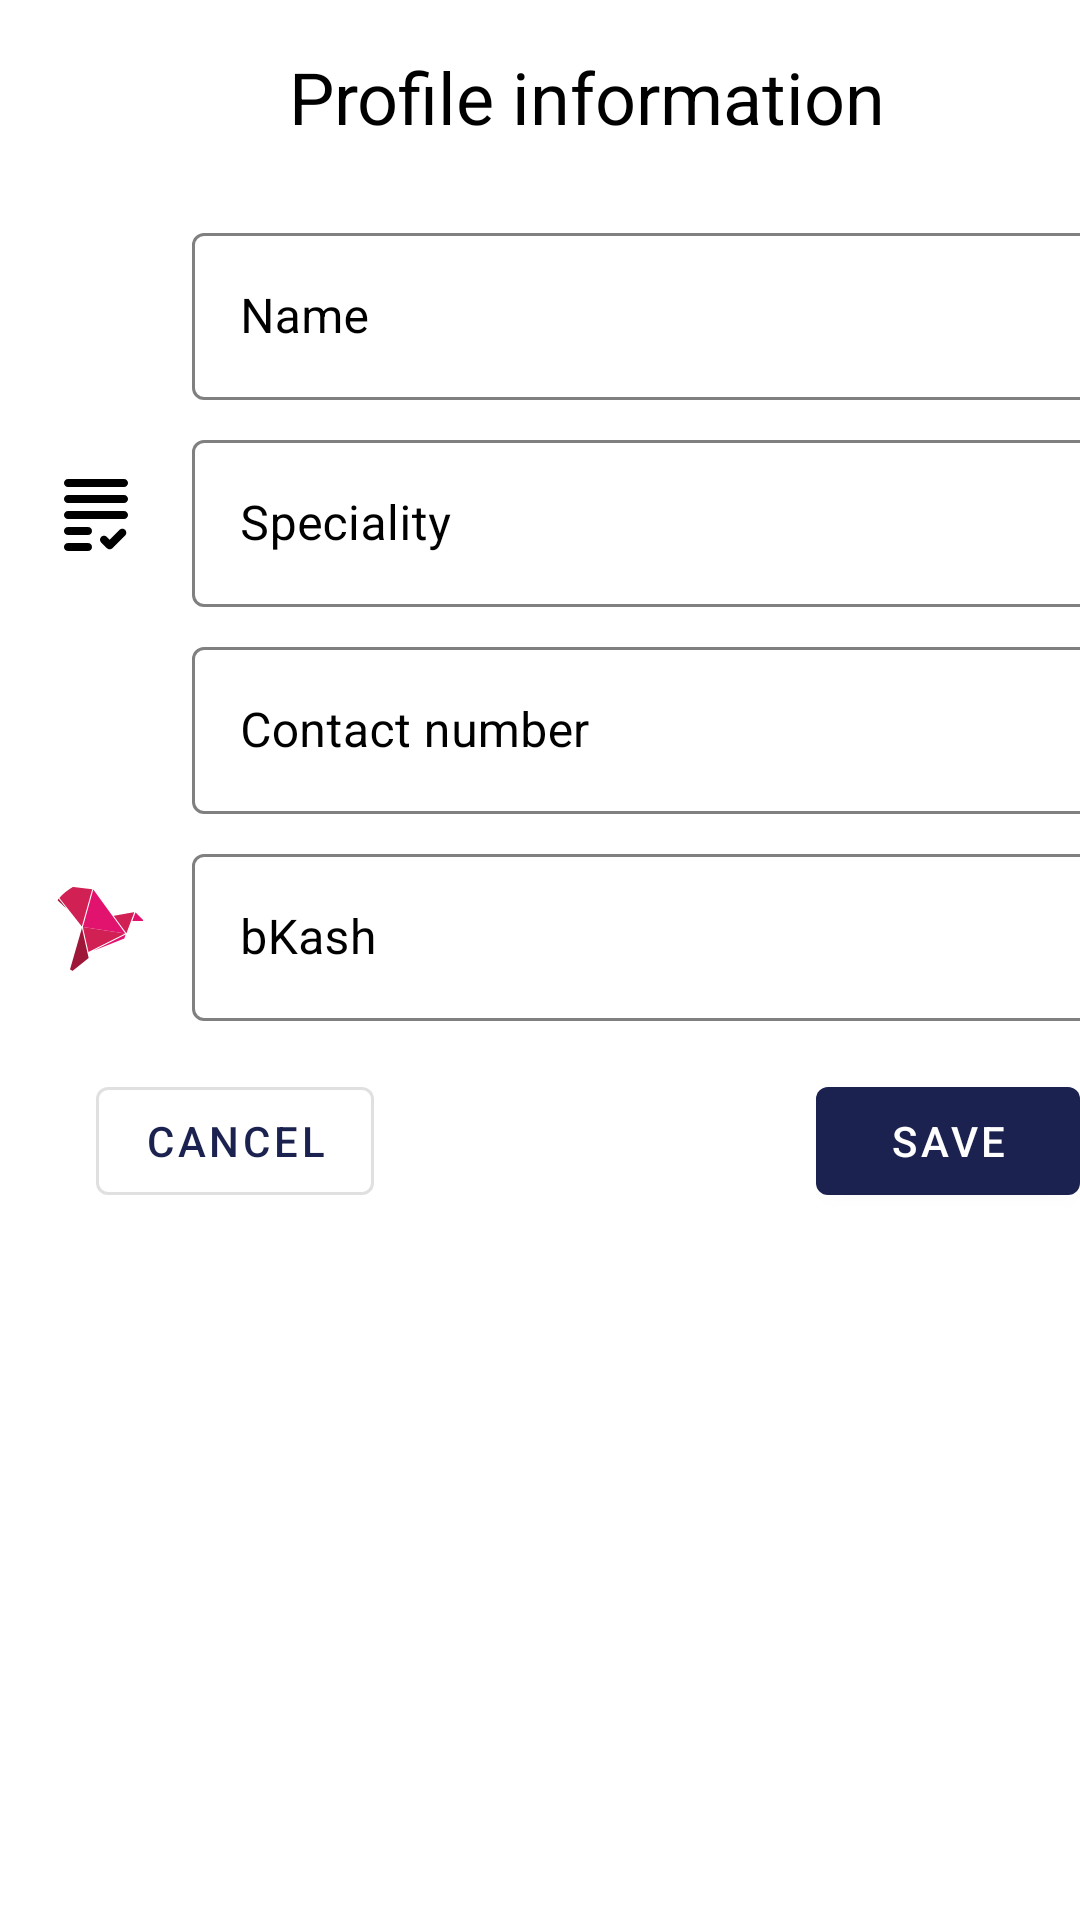

Screen size 1080px x 1920px. Icon name, then its box in pixels as (x1, y1, x2, y2):
grading: (64, 479, 128, 551)
